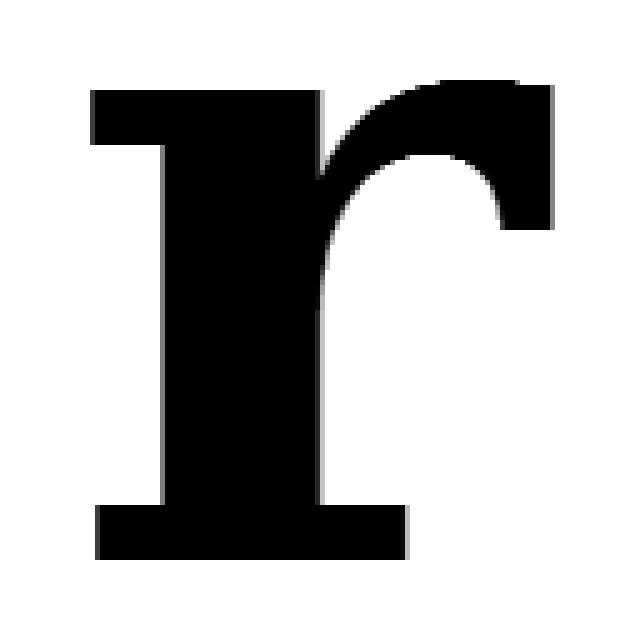R: (80, 70, 555, 560)
